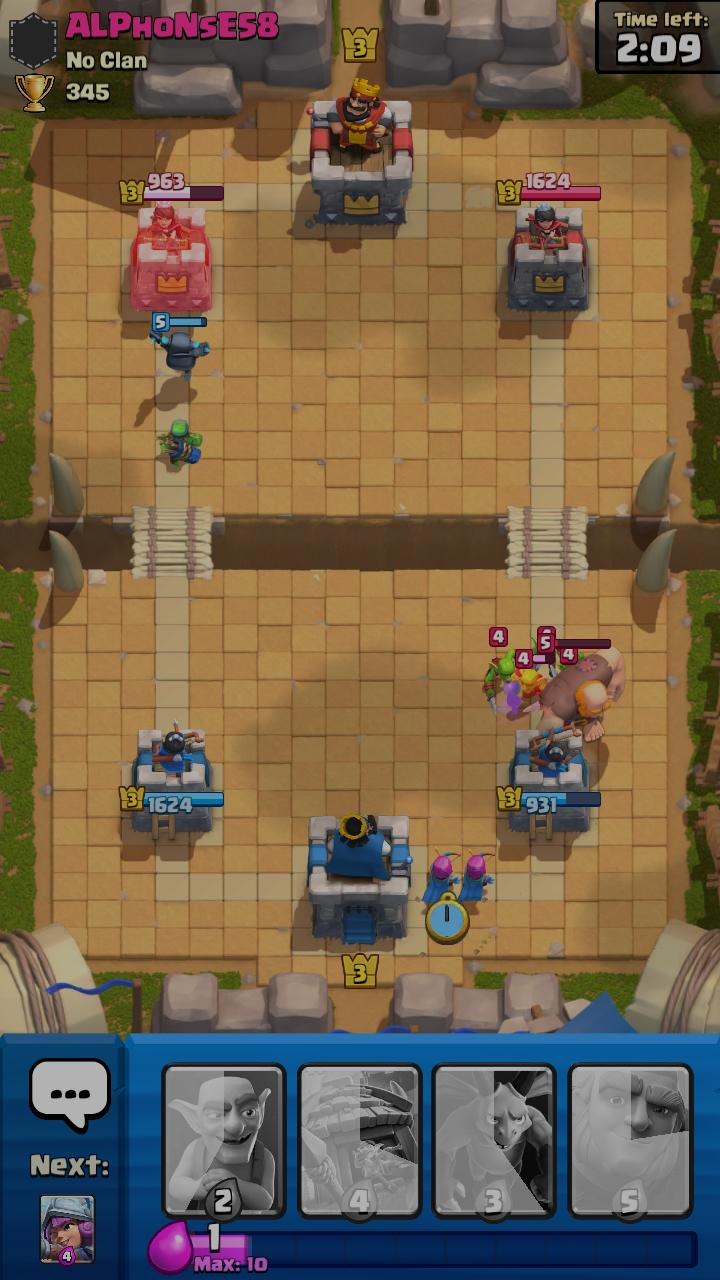ally: (149, 311, 210, 381), (154, 419, 202, 467), (421, 846, 461, 903), (458, 848, 495, 902)
enemy: (535, 633, 627, 743), (484, 627, 515, 716), (511, 649, 548, 712), (531, 626, 560, 677), (550, 649, 584, 677)
